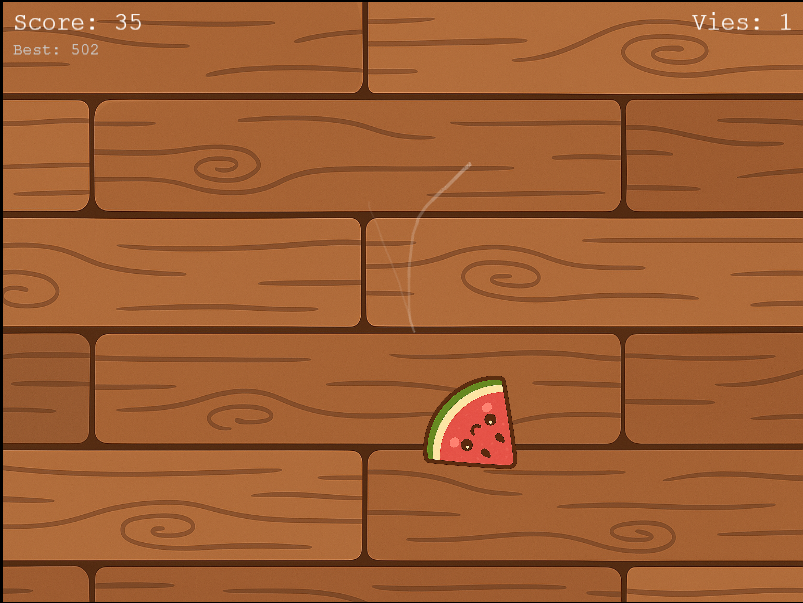fruit: (417, 370, 526, 473)
